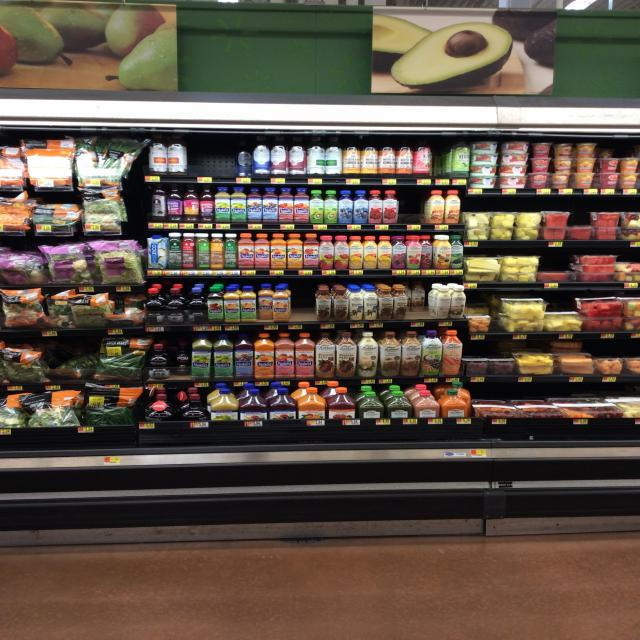100- O.O.S: (191, 143, 234, 183), (292, 282, 314, 329), (401, 190, 421, 230)
